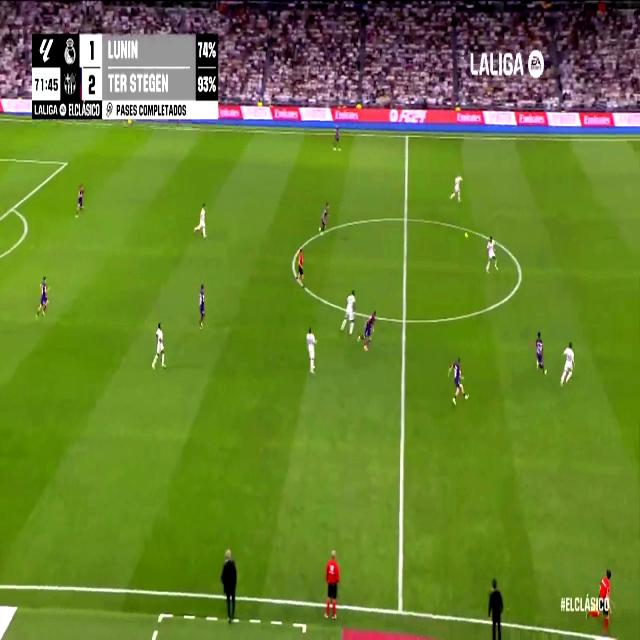bigarea_top_inner: (62, 156, 68, 170)
halfcircle_bottom: (398, 304, 411, 334)
halfcircle_top: (400, 204, 412, 233)
midline_bottom_intersection: (392, 590, 409, 627)
midline_top_intersection: (402, 128, 412, 146)
top_arc_area_intersection: (8, 199, 17, 216)
